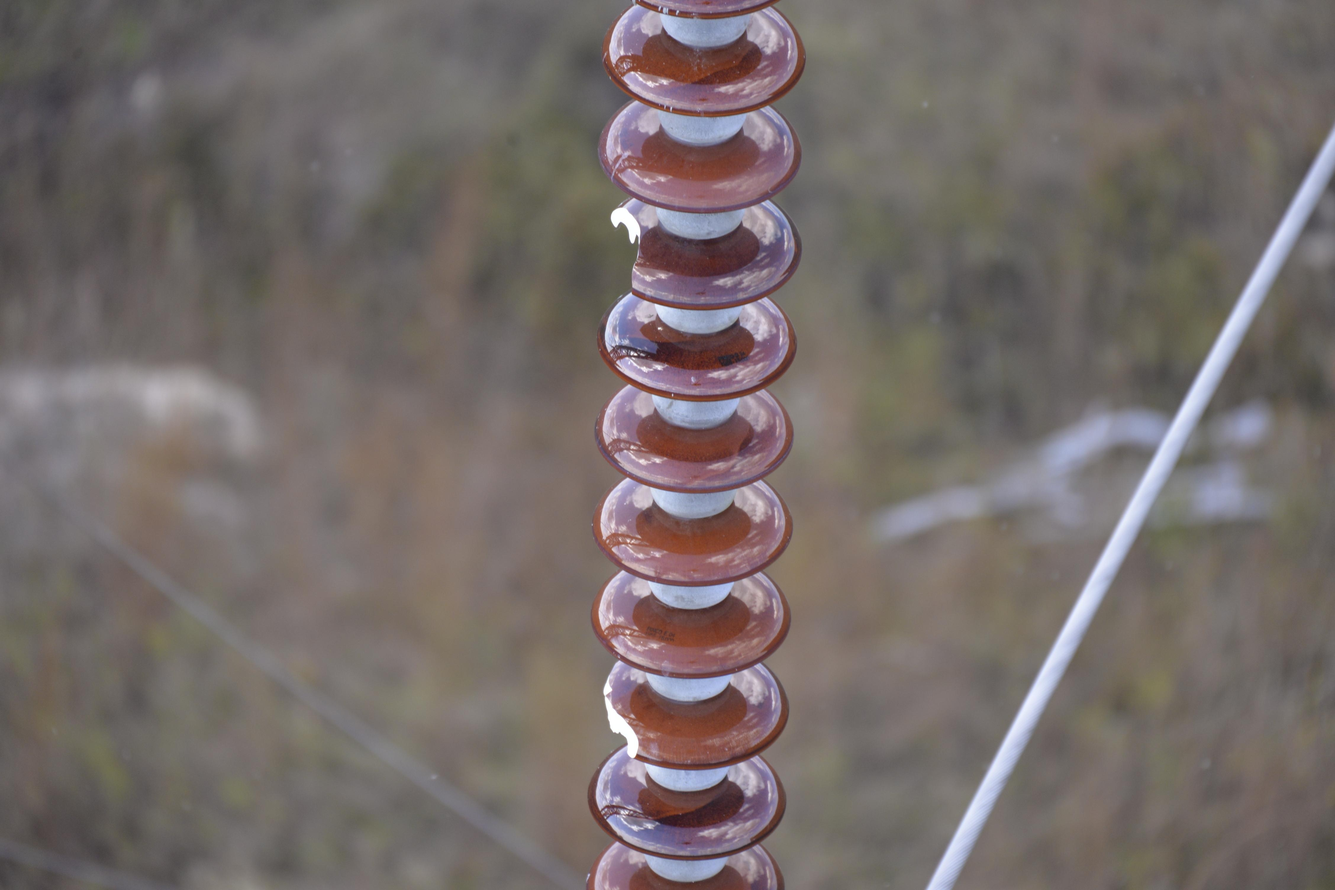damaged: (603, 204, 670, 304), (595, 670, 649, 757)
insulator: (591, 0, 803, 890)
